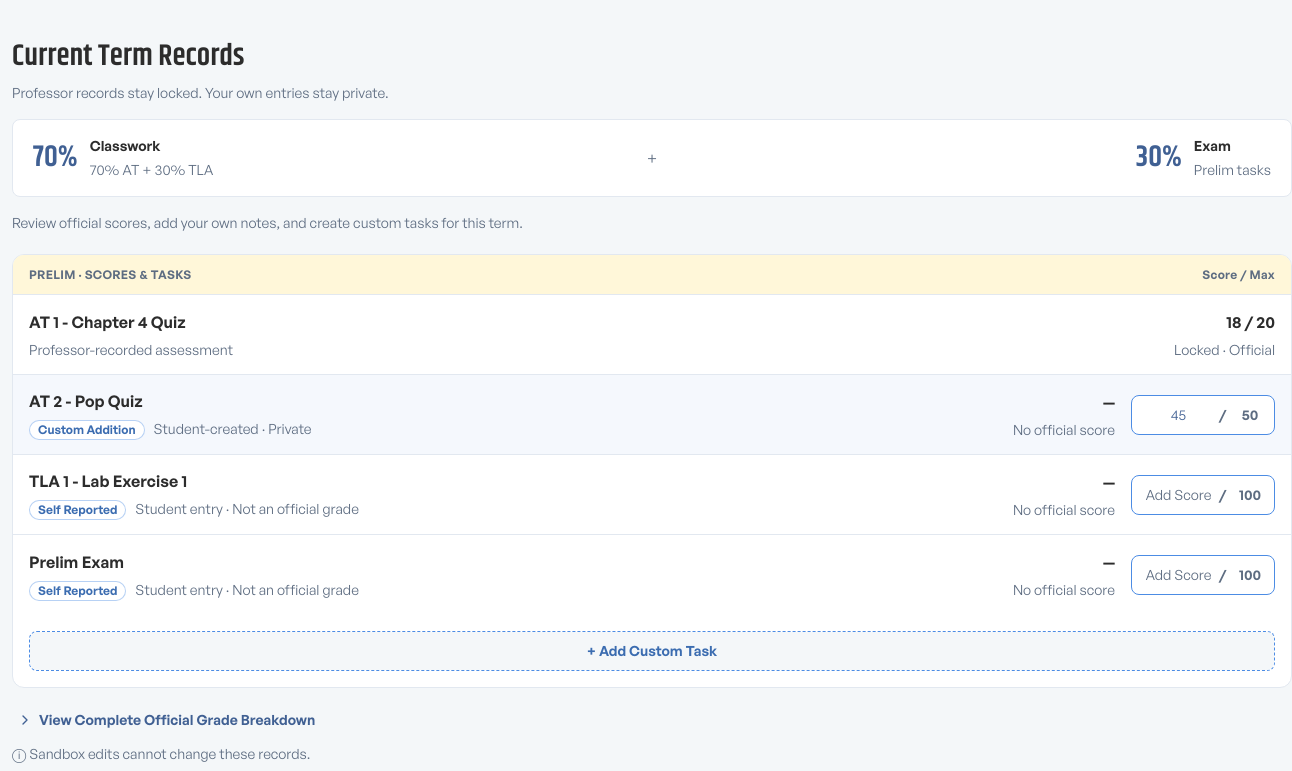
Test case: adding a custom task › needs a name
This screenshot has width=1292, height=771.
Click the button "+ Add Custom Task": coordinates (652, 651) top-left (29, 631), bottom-right (1275, 671)
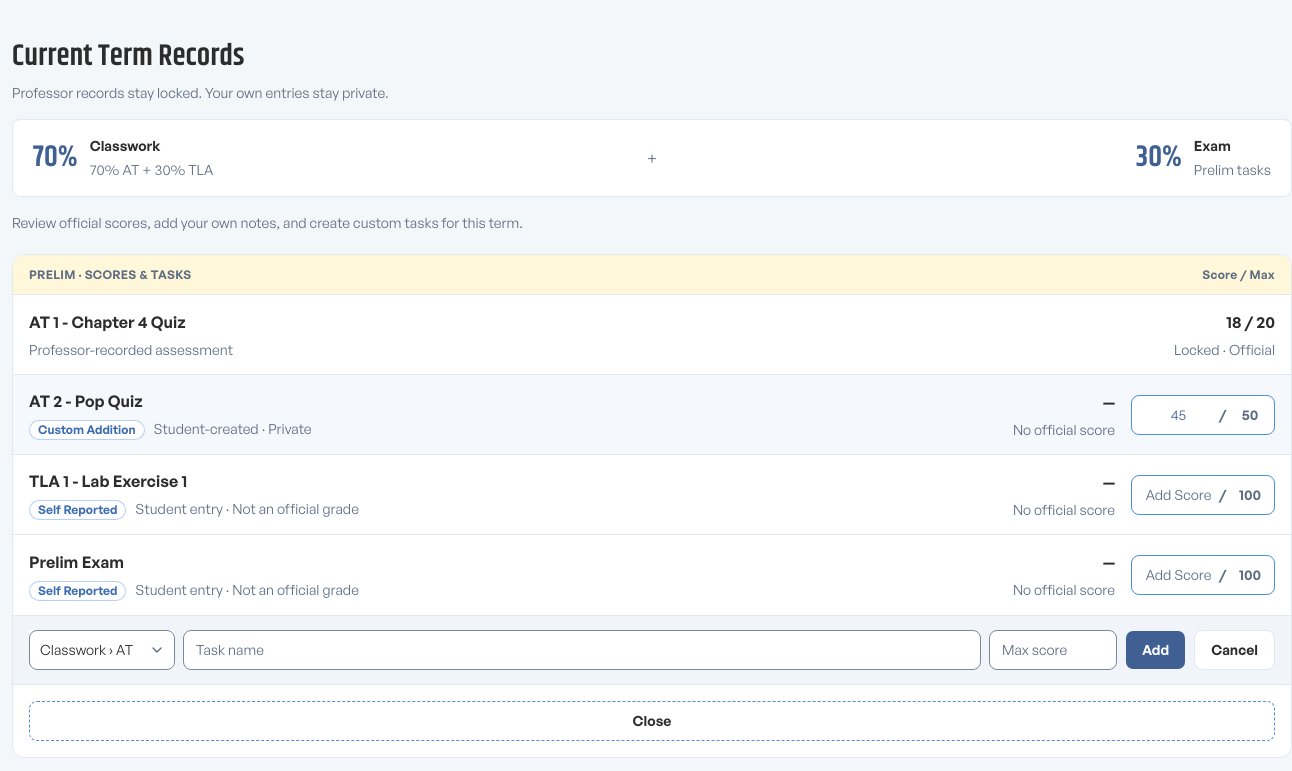
Submit the form, box top-left (13, 615), bottom-right (1291, 685)
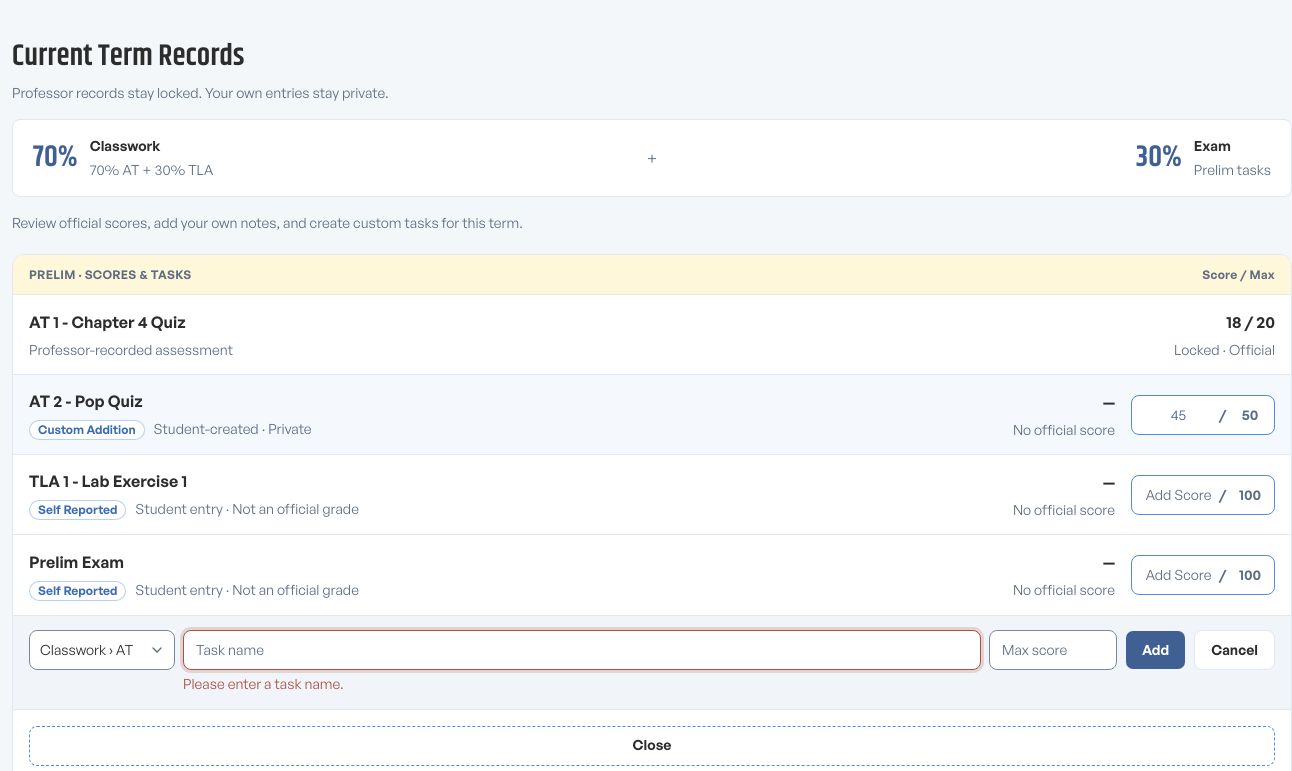
Expected: the message reads "Please enter a task name.", top-left (183, 675), bottom-right (344, 692)
